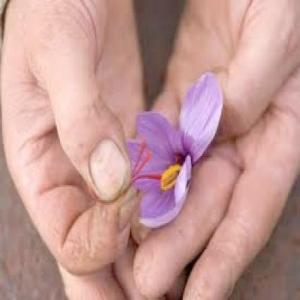Saffron: (120, 70, 224, 228)
